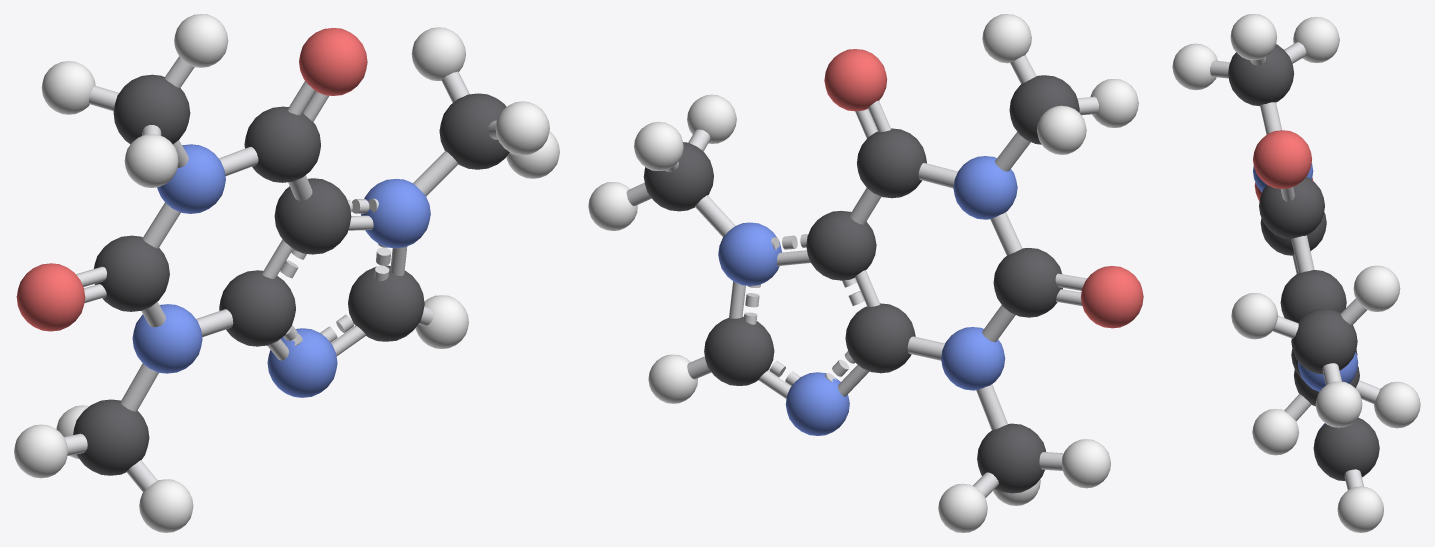
Rendered from caffeine2_opt.glb.
The picture shows the model from 3 angles, left to right: view 1: azimuth 30°, elevation 25°; view 2: azimuth 150°, elevation 25°; view 3: azimuth 270°, elevation 25°; orthographic projection. The views are drawn at different scales.
Size of the model in its own units: 8.1 by 7.08 by 3.57.
